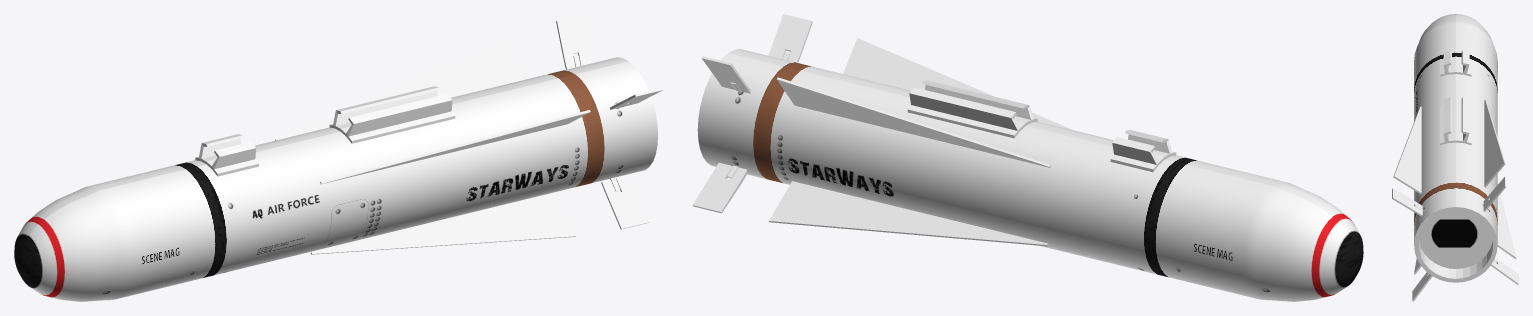
The model's file is missile.fbx.
3 renders of one model, left to right at view 1: azimuth 30°, elevation 25°; view 2: azimuth 150°, elevation 25°; view 3: azimuth 270°, elevation 25°, orthographic. The views are drawn at different scales.
Parts seen in each view (by area): view 1: Mesh; view 2: Mesh; view 3: Mesh.
Part boxes in pixels (x1,y1,x2,y2): Mesh: (14, 14, 663, 301); Mesh: (692, 14, 1363, 301); Mesh: (1392, 14, 1518, 301).
Size of the model in its own units: 30.45 by 7.76 by 7.69.
